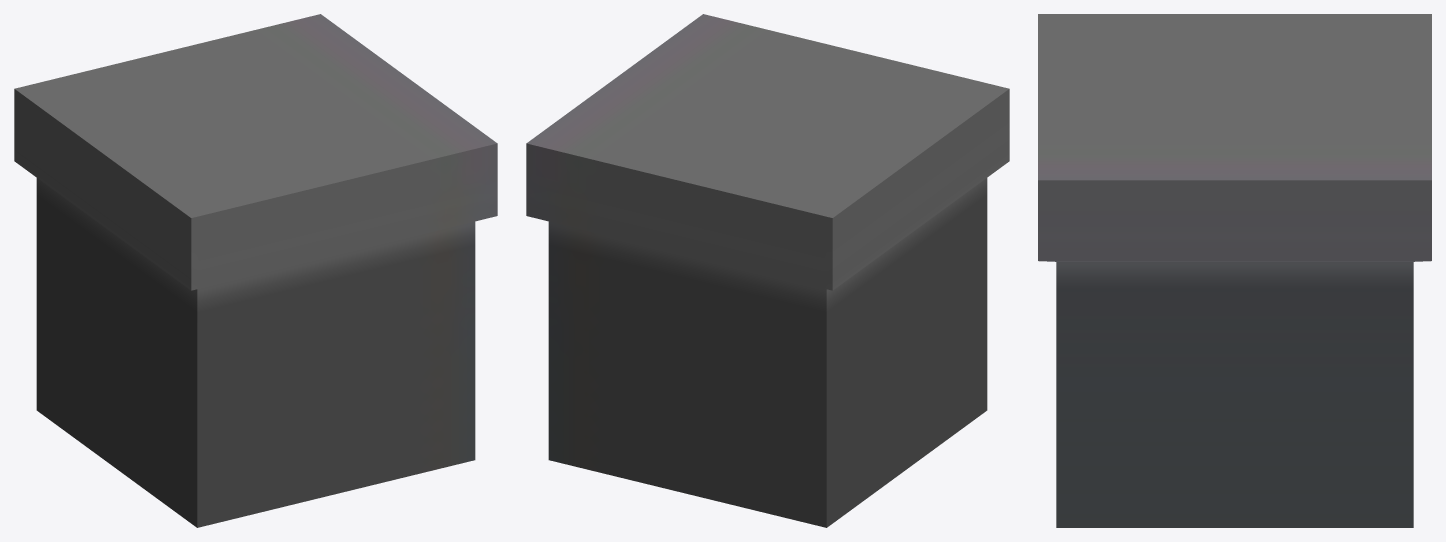
Rendered from SoloIlha_cinza.glb.
3 renders of one model, left to right at view 1: azimuth 30°, elevation 25°; view 2: azimuth 150°, elevation 25°; view 3: azimuth 270°, elevation 25°, orthographic. The views are drawn at different scales.
Visible parts, largest first — view 1: SoloIlha_cinza; view 2: SoloIlha_cinza; view 3: SoloIlha_cinza.
Part boxes in pixels (left/top/right/bottom): SoloIlha_cinza: left=14, top=14, right=497, bottom=527; SoloIlha_cinza: left=526, top=14, right=1009, bottom=527; SoloIlha_cinza: left=1038, top=14, right=1431, bottom=527.
Bounding box in the file's own units: 2 × 1.99 × 2.
1 material, 1 textured.
